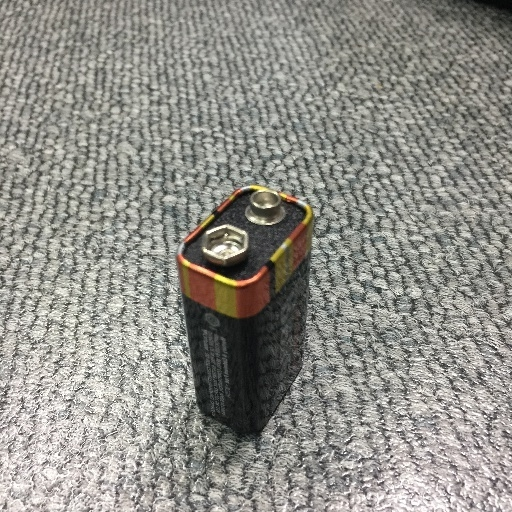Battery_3: (159, 167, 335, 461)
